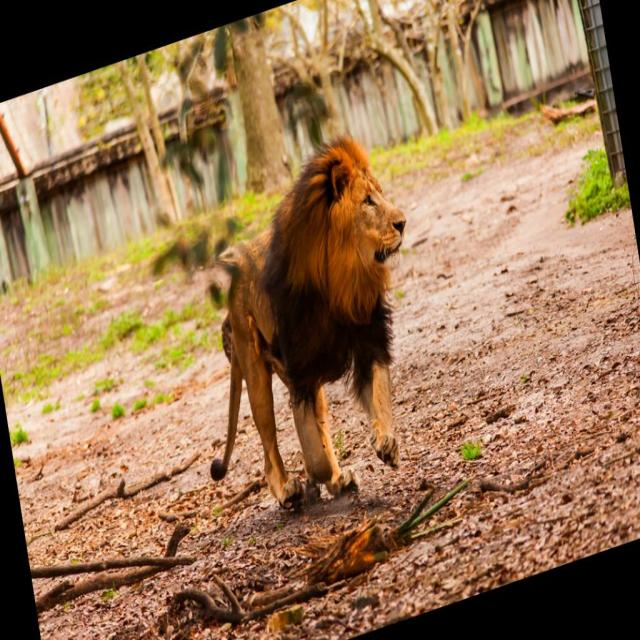Lion: (167, 115, 443, 539)
